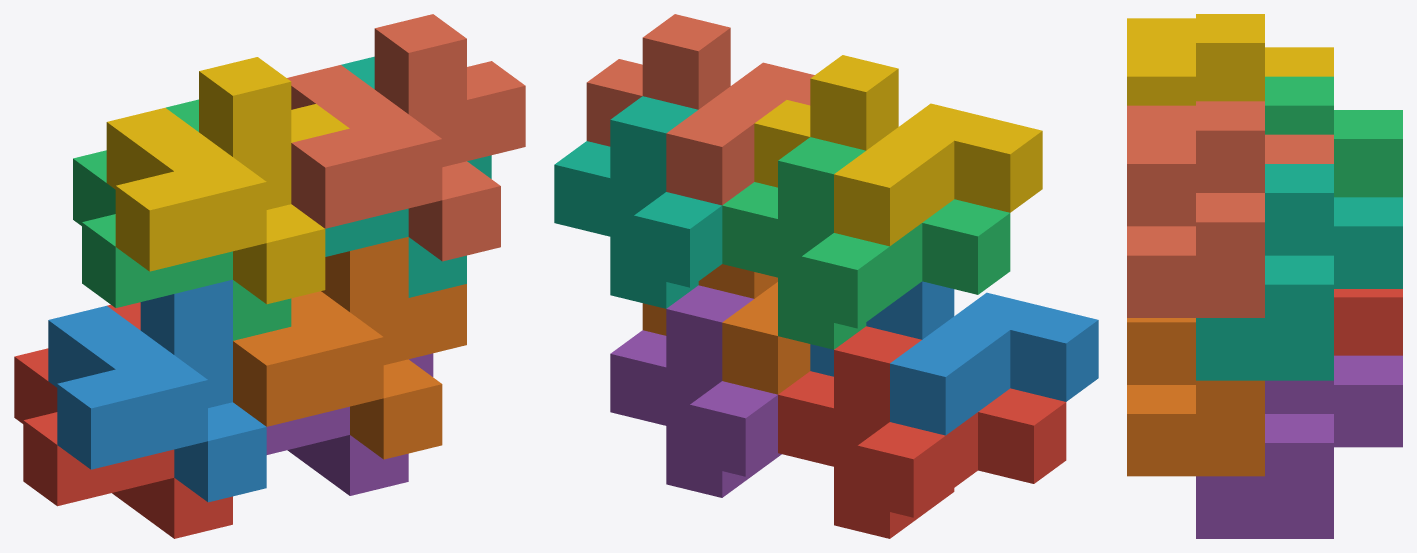
Rendered from tiling.obj.
3 views of the same model, side by side, from view 1: azimuth 30°, elevation 25°; view 2: azimuth 150°, elevation 25°; view 3: azimuth 270°, elevation 25° (orthographic). The views are drawn at different scales.
Parts seen in each view (by area): view 1: copy_1_domain_8, copy_1_domain_4, copy_1_domain_2, copy_1_domain_6, copy_1_domain_1, copy_1_domain_3, copy_1_domain_5, copy_1_domain_7; view 2: copy_1_domain_1, copy_1_domain_3, copy_1_domain_4, copy_1_domain_2, copy_1_domain_5, copy_1_domain_7, copy_1_domain_8, copy_1_domain_6; view 3: copy_1_domain_8, copy_1_domain_7, copy_1_domain_5, copy_1_domain_6, copy_1_domain_4, copy_1_domain_3, copy_1_domain_1.
Boxes of the visible parts, x1=… form: copy_1_domain_8: x1=287, y1=14, x2=525, y2=261; copy_1_domain_4: x1=106, y1=57, x2=349, y2=304; copy_1_domain_2: x1=48, y1=279, x2=266, y2=502; copy_1_domain_6: x1=233, y1=237, x2=466, y2=459; copy_1_domain_1: x1=14, y1=302, x2=232, y2=538; copy_1_domain_3: x1=73, y1=99, x2=291, y2=340; copy_1_domain_5: x1=266, y1=353, x2=433, y2=495; copy_1_domain_7: x1=325, y1=56, x2=491, y2=297; copy_1_domain_1: x1=778, y1=326, x2=1066, y2=538; copy_1_domain_3: x1=722, y1=137, x2=1010, y2=349; copy_1_domain_4: x1=754, y1=55, x2=1042, y2=246; copy_1_domain_2: x1=810, y1=281, x2=1098, y2=435; copy_1_domain_5: x1=610, y1=285, x2=781, y2=497; copy_1_domain_7: x1=554, y1=96, x2=722, y2=308; copy_1_domain_8: x1=586, y1=14, x2=814, y2=205; copy_1_domain_6: x1=642, y1=264, x2=810, y2=394; copy_1_domain_8: x1=1127, y1=101, x2=1333, y2=317; copy_1_domain_7: x1=1196, y1=164, x2=1402, y2=380; copy_1_domain_5: x1=1196, y1=355, x2=1402, y2=538; copy_1_domain_6: x1=1127, y1=318, x2=1264, y2=476; copy_1_domain_4: x1=1127, y1=14, x2=1333, y2=105; copy_1_domain_3: x1=1265, y1=76, x2=1402, y2=197; copy_1_domain_1: x1=1334, y1=289, x2=1402, y2=355.
Size of the model in its own units: 8 by 7 by 4.
